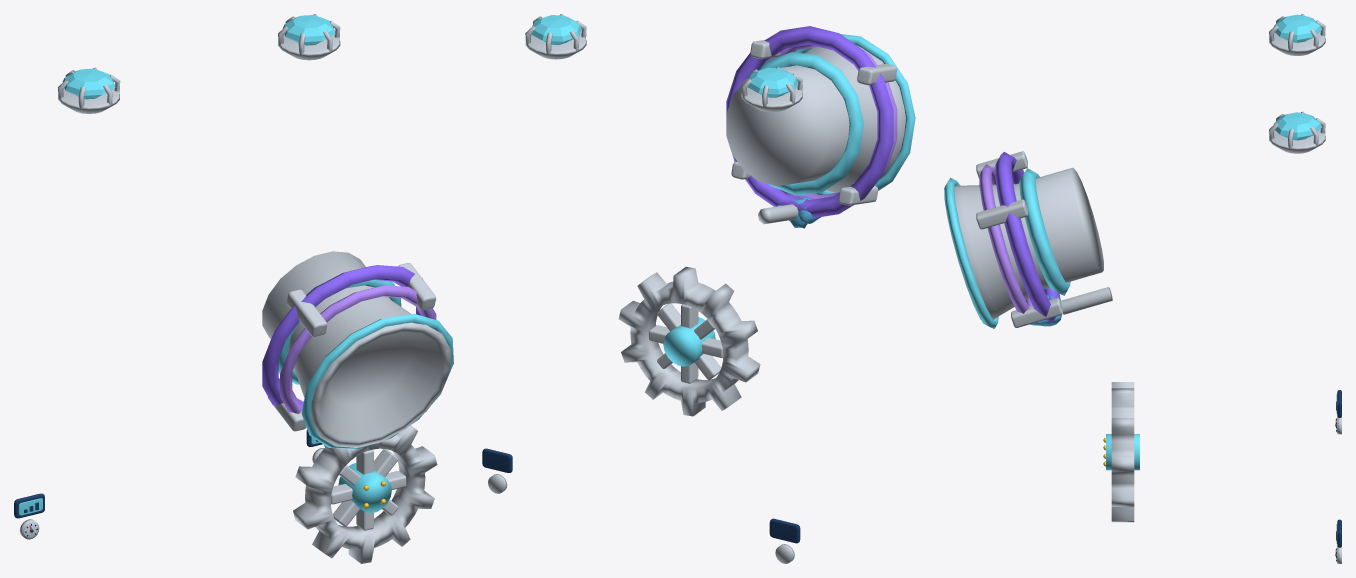
File: FlamethrowerTurret_T3_Upgrades.fbx
3 renders of one model, left to right at view 1: azimuth 30°, elevation 25°; view 2: azimuth 150°, elevation 25°; view 3: azimuth 270°, elevation 25°, orthographic. The views are drawn at different scales.
Parts seen in each view (by area): view 1: FlamethrowerTurretT3U1Nozzle, FlamethrowerTurretT3U3Gear1, FlamethrowerTurretT3U5PlasmaGlow, FlamethrowerTurretT3U1NozzleGlow, FlamethrowerTurretT3U5Plasma, FlamethrowerTurretT3U2Lamp1, FlamethrowerTurretT3U2Lamp2, FlamethrowerTurretT3U2Lamp1Glow, FlamethrowerTurretT3U2Lamp2Glow, FlamethrowerTurretT3U3Gauges; view 2: FlamethrowerTurretT3U3Gear1, FlamethrowerTurretT3U1Nozzle, FlamethrowerTurretT3U5PlasmaGlow, FlamethrowerTurretT3U1NozzleGlow, FlamethrowerTurretT3U3Gauges, FlamethrowerTurretT3U5Plasma, FlamethrowerTurretT3U2Lamp2, FlamethrowerTurretT3U2Lamp1, FlamethrowerTurretT3U2Lamp2Glow, FlamethrowerTurretT3U2Lamp1Glow, FlamethrowerTurretT3U2Pilot; view 3: FlamethrowerTurretT3U1Nozzle, FlamethrowerTurretT3U5PlasmaGlow, FlamethrowerTurretT3U1NozzleGlow, FlamethrowerTurretT3U3Gear1, FlamethrowerTurretT3U5Plasma, FlamethrowerTurretT3U2Lamp2, FlamethrowerTurretT3U2Lamp1, FlamethrowerTurretT3U2Lamp2Glow, FlamethrowerTurretT3U2Lamp1Glow, FlamethrowerTurretT3U2Pilot, FlamethrowerTurretT3U3Gauges.
Boxes of the visible parts, x1=… form: FlamethrowerTurretT3U1Nozzle: x1=262, y1=251, x2=450, y2=447; FlamethrowerTurretT3U3Gear1: x1=293, y1=425, x2=437, y2=563; FlamethrowerTurretT3U5PlasmaGlow: x1=262, y1=265, x2=436, y2=413; FlamethrowerTurretT3U1NozzleGlow: x1=278, y1=280, x2=453, y2=448; FlamethrowerTurretT3U5Plasma: x1=267, y1=263, x2=436, y2=431; FlamethrowerTurretT3U2Lamp1: x1=278, y1=14, x2=340, y2=60; FlamethrowerTurretT3U2Lamp2: x1=58, y1=67, x2=120, y2=113; FlamethrowerTurretT3U2Lamp1Glow: x1=282, y1=15, x2=335, y2=45; FlamethrowerTurretT3U2Lamp2Glow: x1=62, y1=68, x2=115, y2=99; FlamethrowerTurretT3U3Gauges: x1=14, y1=430, x2=324, y2=539; FlamethrowerTurretT3U3Gear1: x1=618, y1=267, x2=760, y2=416; FlamethrowerTurretT3U1Nozzle: x1=726, y1=46, x2=905, y2=192; FlamethrowerTurretT3U5PlasmaGlow: x1=726, y1=26, x2=897, y2=217; FlamethrowerTurretT3U1NozzleGlow: x1=758, y1=34, x2=915, y2=195; FlamethrowerTurretT3U3Gauges: x1=482, y1=448, x2=800, y2=563; FlamethrowerTurretT3U5Plasma: x1=731, y1=40, x2=896, y2=205; FlamethrowerTurretT3U2Lamp2: x1=741, y1=67, x2=802, y2=112; FlamethrowerTurretT3U2Lamp1: x1=525, y1=14, x2=586, y2=59; FlamethrowerTurretT3U2Lamp2Glow: x1=747, y1=67, x2=797, y2=97; FlamethrowerTurretT3U2Lamp1Glow: x1=531, y1=15, x2=581, y2=44; FlamethrowerTurretT3U2Pilot: x1=758, y1=204, x2=798, y2=224; FlamethrowerTurretT3U1Nozzle: x1=944, y1=167, x2=1103, y2=319; FlamethrowerTurretT3U5PlasmaGlow: x1=979, y1=152, x2=1060, y2=322; FlamethrowerTurretT3U1NozzleGlow: x1=944, y1=168, x2=1070, y2=328; FlamethrowerTurretT3U3Gear1: x1=1103, y1=382, x2=1139, y2=522; FlamethrowerTurretT3U5Plasma: x1=976, y1=151, x2=1062, y2=327; FlamethrowerTurretT3U2Lamp2: x1=1269, y1=14, x2=1325, y2=55; FlamethrowerTurretT3U2Lamp1: x1=1269, y1=111, x2=1325, y2=153; FlamethrowerTurretT3U2Lamp2Glow: x1=1273, y1=14, x2=1321, y2=42; FlamethrowerTurretT3U2Lamp1Glow: x1=1273, y1=112, x2=1321, y2=140; FlamethrowerTurretT3U2Pilot: x1=1060, y1=287, x2=1112, y2=314; FlamethrowerTurretT3U3Gauges: x1=1335, y1=390, x2=1341, y2=563.
Bounding box in the file's own units: 188 × 262 × 220.
